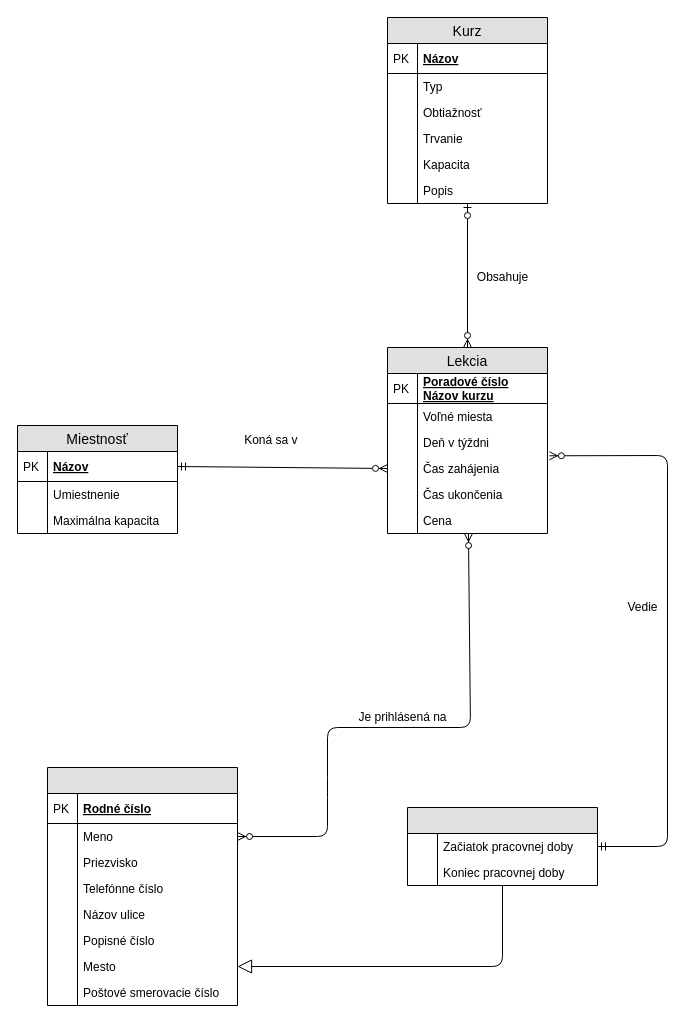
Image size: 694x1026. Some labels were removed from this diagram. The box of each missing label's shape, as (x1, y1, x2, y2) in pixels:
Osoba: (46, 766, 238, 1006)
Tréner: (406, 806, 598, 886)
